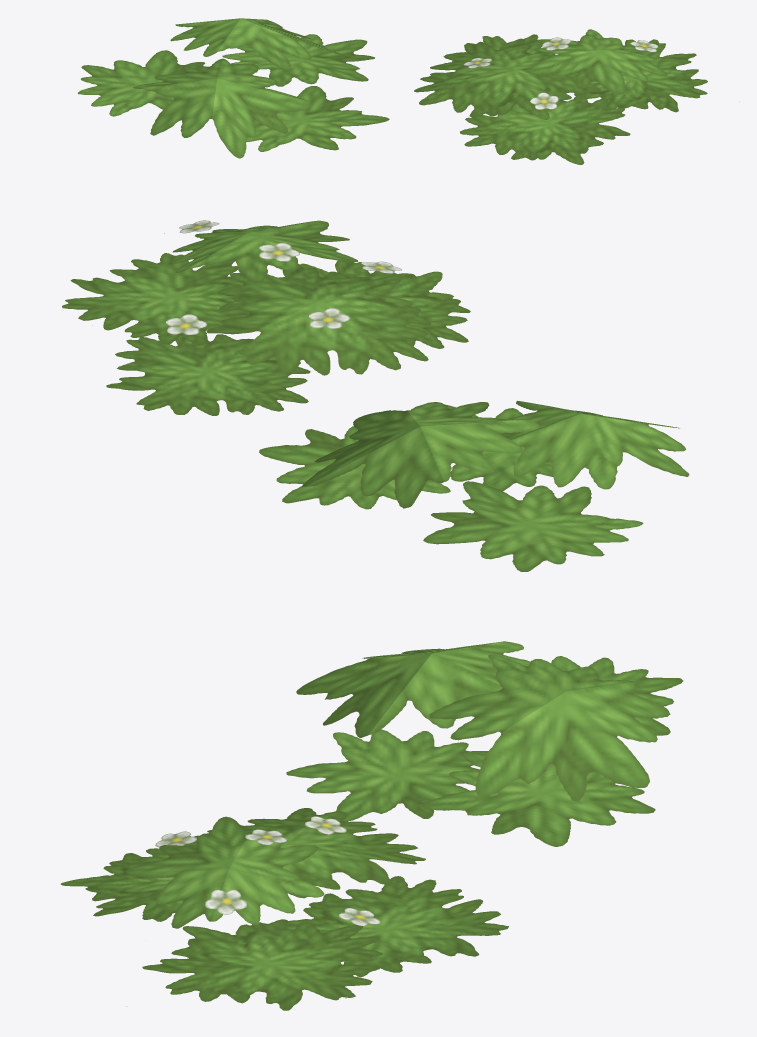
Rendered from Area_06_30.fbx.
3 views of the same model, one above another, from view 1: azimuth 30°, elevation 25°; view 2: azimuth 150°, elevation 25°; view 3: azimuth 270°, elevation 25° (orthographic). The views are drawn at different scales.
Parts seen in each view (by area): view 1: Area_06_30; view 2: Area_06_30; view 3: Area_06_30.
Boxes of the visible parts, <box> form: Area_06_30: <box>78,18,707,164</box>; Area_06_30: <box>62,220,689,571</box>; Area_06_30: <box>60,641,683,1010</box>.
Bounding box in the file's own units: 541 × 62.22 × 436.
